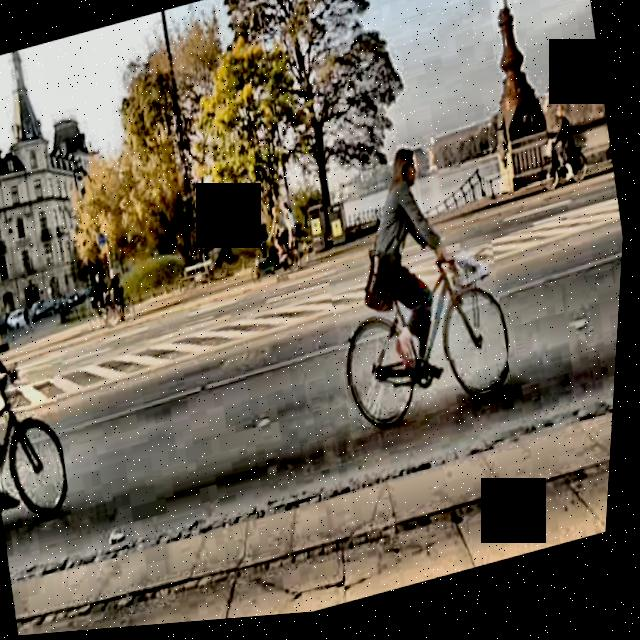bicycle: (326, 241, 526, 448), (0, 358, 85, 535)
